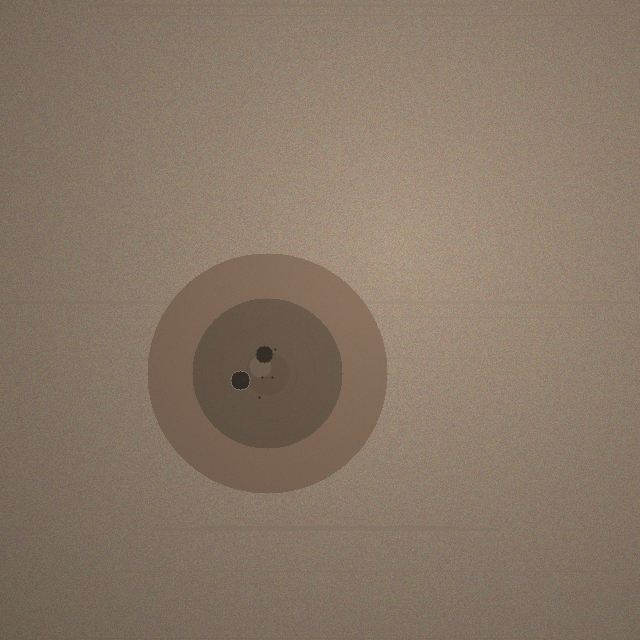shrinkage: (147, 253, 387, 493)
